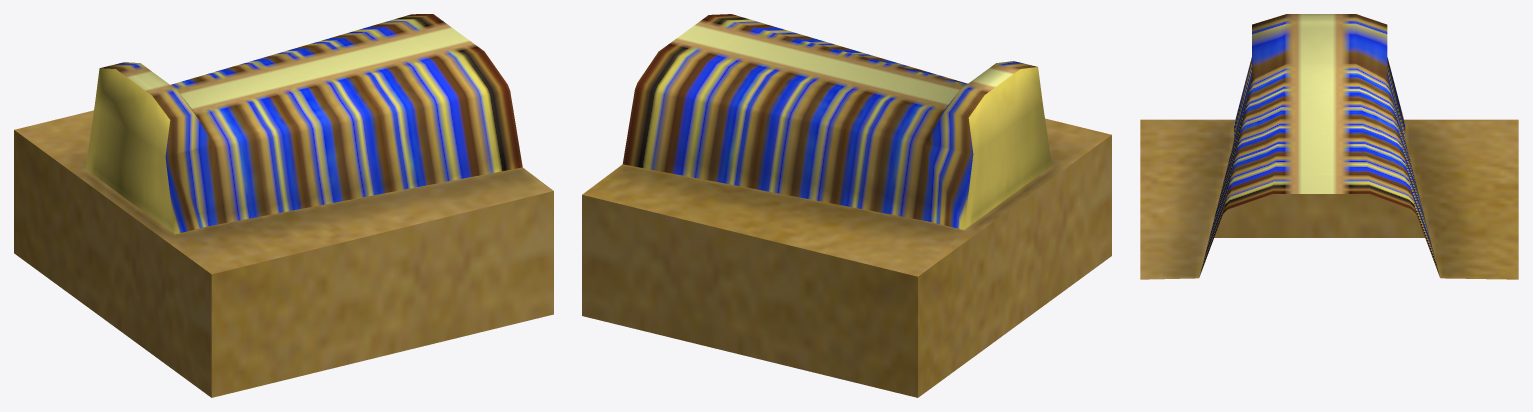
The model's file is egy_tile_boundary_tut_bot_ew.obj.
3 renders of one model, left to right at view 1: azimuth 30°, elevation 25°; view 2: azimuth 150°, elevation 25°; view 3: azimuth 270°, elevation 25°, orthographic. The views are drawn at different scales.
Visible parts, largest first — view 1: tile_boundary_tut_bot; view 2: tile_boundary_tut_bot; view 3: tile_boundary_tut_bot.
Boxes of the visible parts, left/top/right/bottom form: tile_boundary_tut_bot: left=14, top=14, right=553, bottom=397; tile_boundary_tut_bot: left=582, top=14, right=1111, bottom=397; tile_boundary_tut_bot: left=1140, top=14, right=1518, bottom=279.
Bounding box in the file's own units: 1 × 0.6765 × 1.
